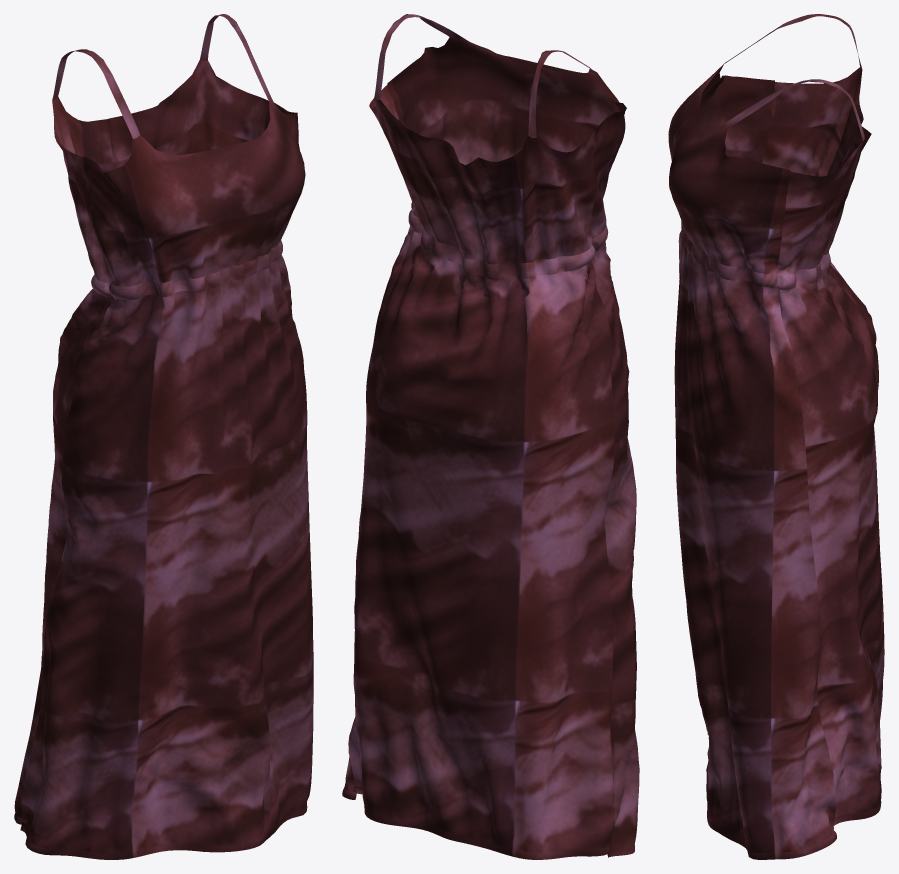
File: G_clothe12.glb
3 renders of one model, left to right at view 1: azimuth 30°, elevation 25°; view 2: azimuth 150°, elevation 25°; view 3: azimuth 270°, elevation 25°, orthographic. The views are drawn at different scales.
Visible parts, largest first — view 1: Garment; view 2: Garment; view 3: Garment.
Part boxes in pixels (<box>): Garment: <box>14,14,313,859</box>; Garment: <box>342,14,639,859</box>; Garment: <box>668,14,884,859</box>.
Size of the model in its own units: 0.4066 by 1.13 by 0.2905.
Materials: 1 (1 with a texture image).
